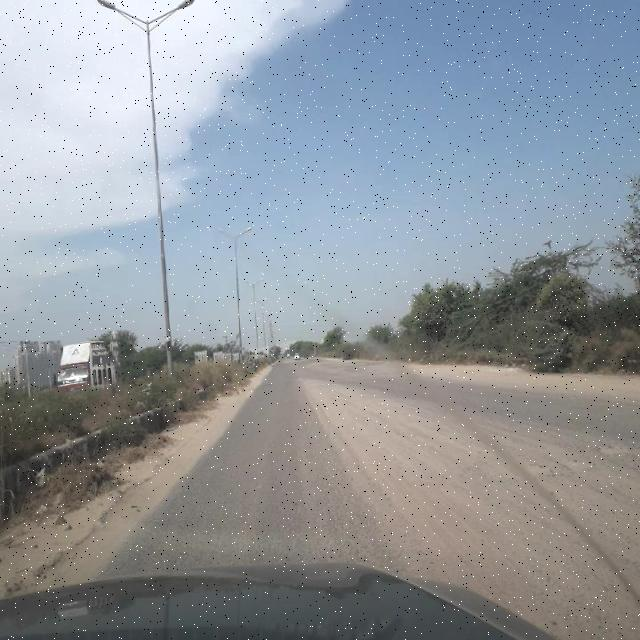D40: (567, 452, 599, 474), (526, 455, 558, 477), (598, 441, 636, 459)
